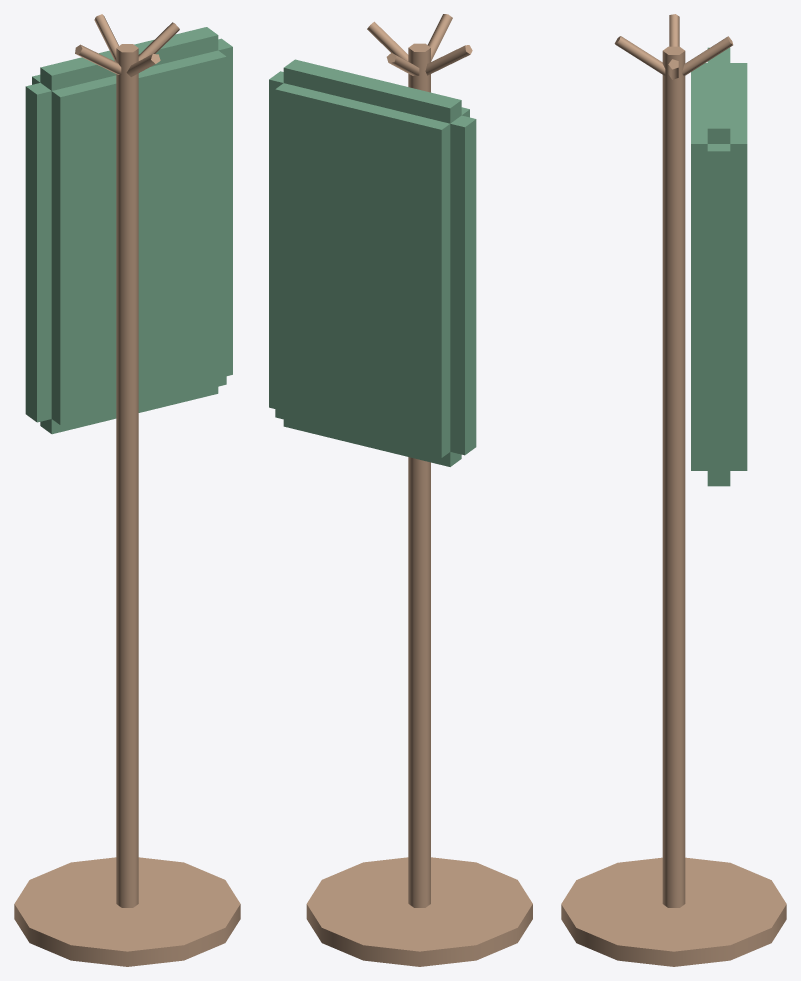
The model's file is coat_rack.glb.
3 views of the same model, side by side, from view 1: azimuth 30°, elevation 25°; view 2: azimuth 150°, elevation 25°; view 3: azimuth 270°, elevation 25° (orthographic).
Parts seen in each view (by area): view 1: coat_rack; view 2: coat_rack; view 3: coat_rack.
Part boxes in pixels (<box>): coat_rack: <box>14,14,240,966</box>; coat_rack: <box>269,14,532,966</box>; coat_rack: <box>561,14,786,966</box>.
Size of the model in its own units: 0.45 by 1.73 by 0.4.
